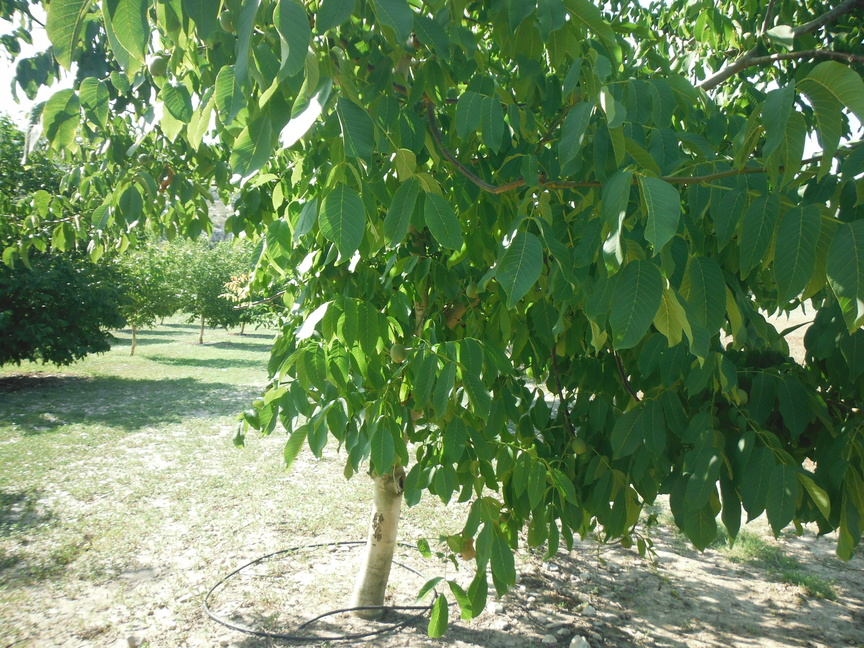walnut: (214, 5, 242, 36), (145, 51, 169, 84), (386, 338, 410, 368), (722, 384, 751, 407), (736, 27, 759, 53), (569, 432, 589, 461), (462, 278, 484, 302), (133, 149, 153, 167), (84, 145, 102, 162)
